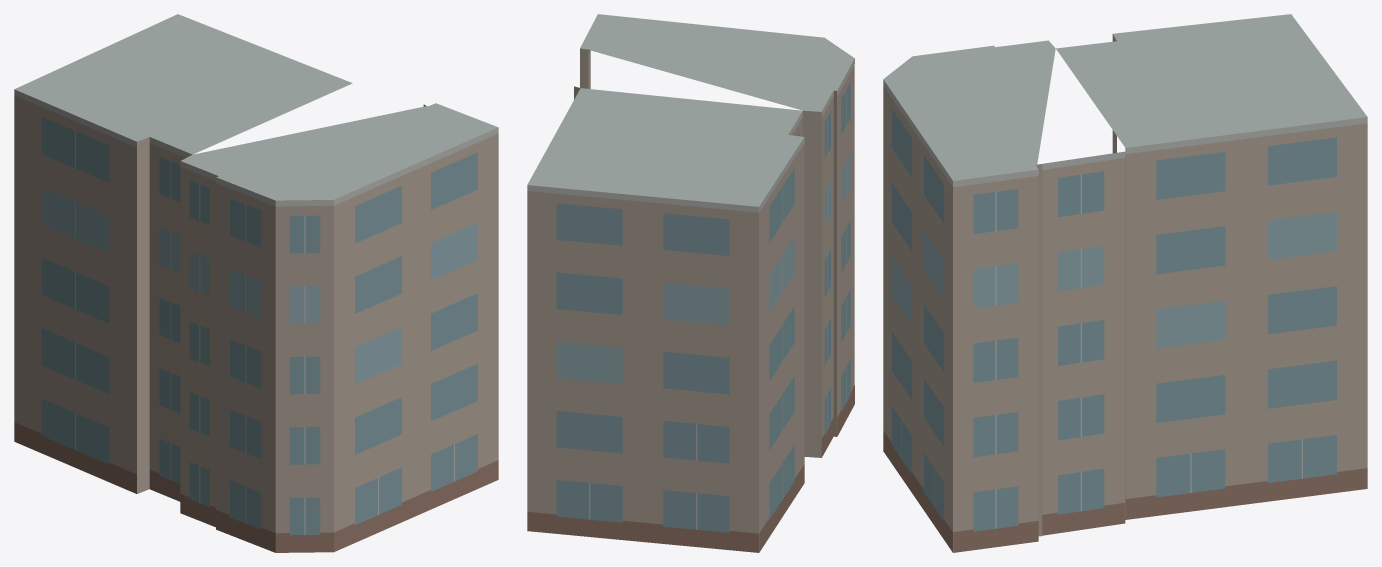
The model's file is survey-upis-32492547.glb.
3 views of the same model, side by side, from view 1: azimuth 30°, elevation 25°; view 2: azimuth 150°, elevation 25°; view 3: azimuth 270°, elevation 25° (orthographic). The views are drawn at different scales.
Visible parts, largest first — view 1: survey-upis-32492547.tmp; view 2: survey-upis-32492547.tmp; view 3: survey-upis-32492547.tmp.
Part boxes in pixels (x1,y1,x2,y2): survey-upis-32492547.tmp: (14, 14, 498, 552); survey-upis-32492547.tmp: (527, 14, 854, 552); survey-upis-32492547.tmp: (883, 14, 1367, 552).
Size of the model in its own units: 13.98 by 14.5 by 17.13.
